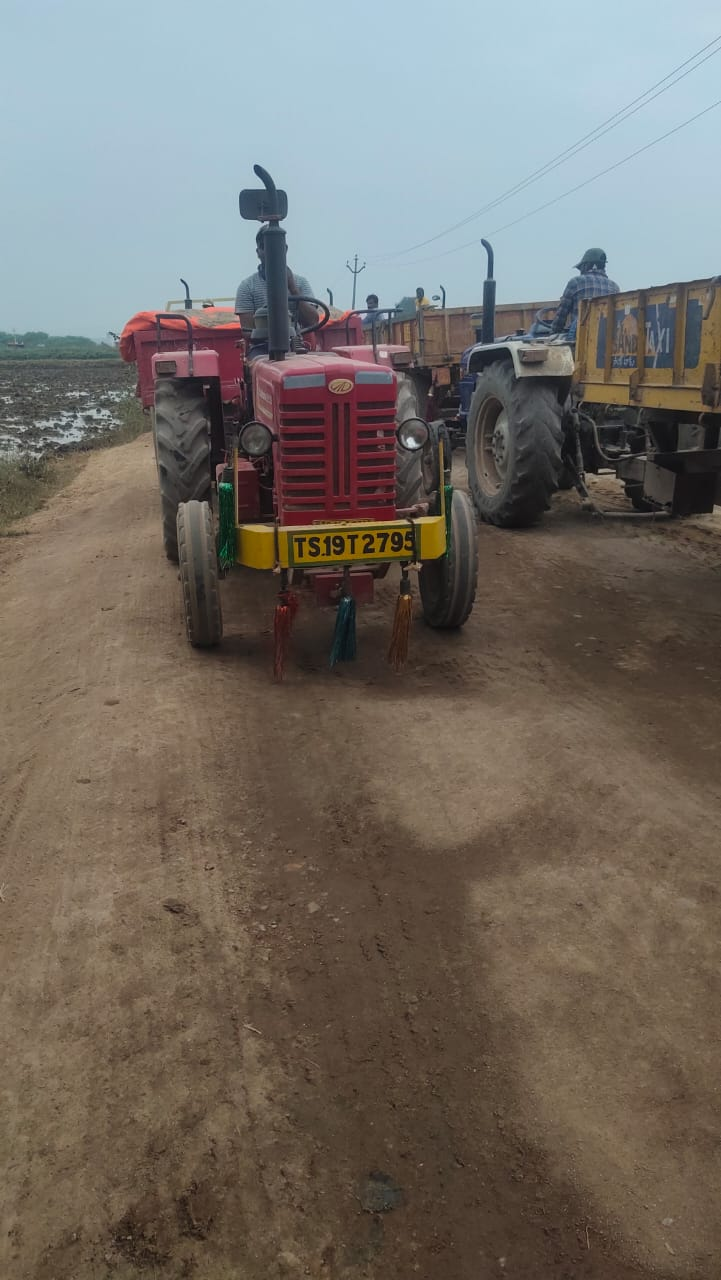num_plate: (281, 520, 423, 561)
